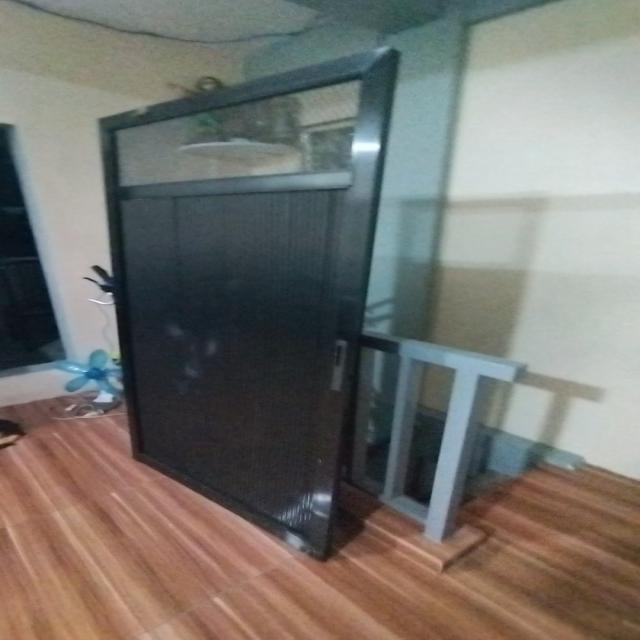door: (92, 41, 383, 556)
